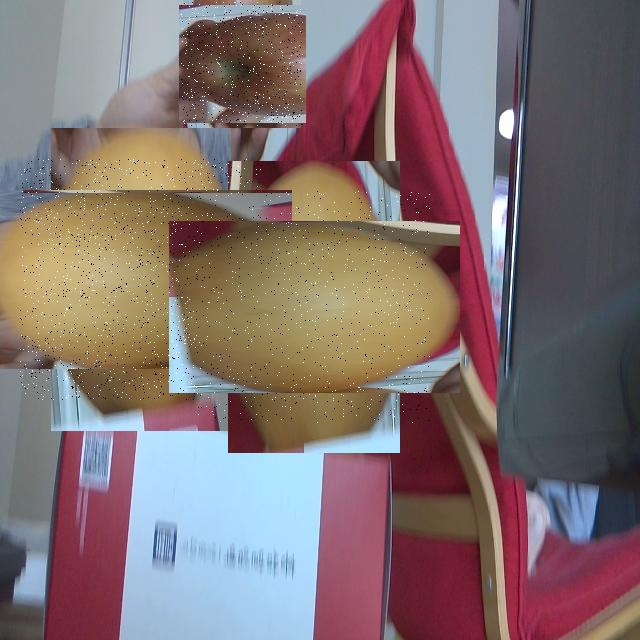apple: (181, 2, 303, 126)
pear: (20, 159, 262, 400), (198, 191, 430, 423)
